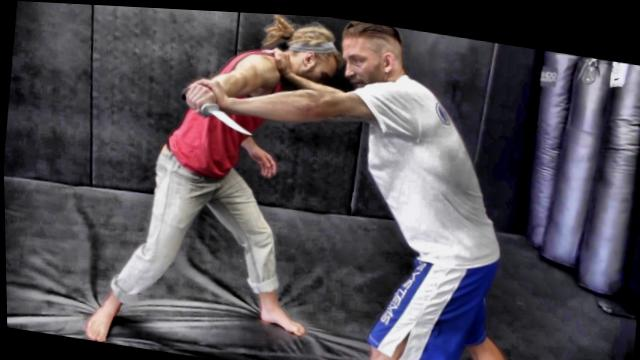knife: (174, 81, 259, 139)
